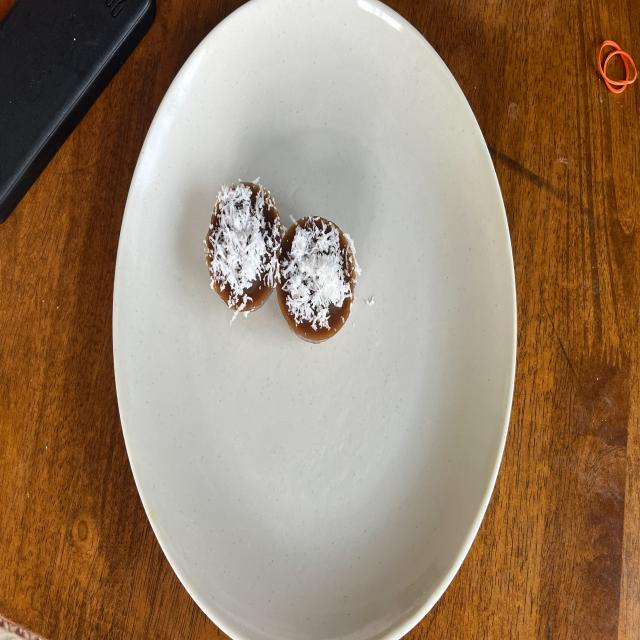Kuih lompang: (205, 180, 284, 316), (278, 216, 358, 342)
